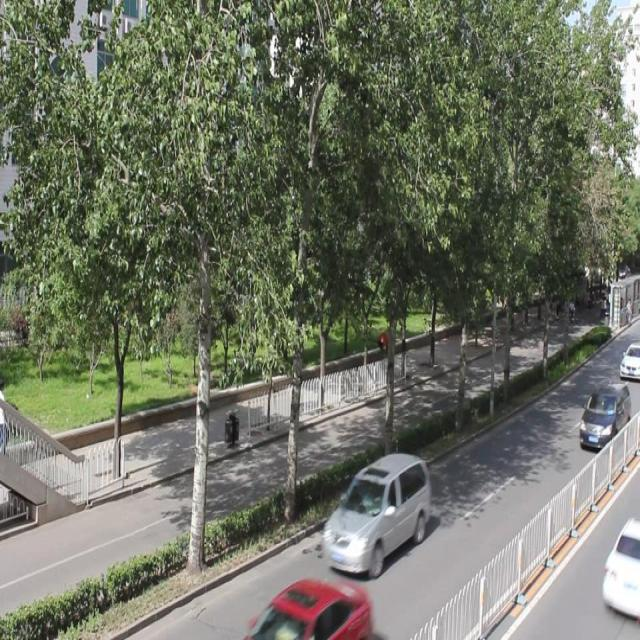car: (322, 450, 428, 573), (244, 577, 370, 640), (577, 379, 629, 447)
